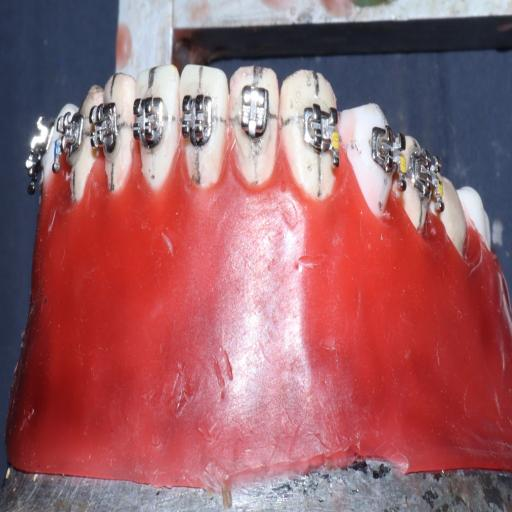correct_brace: (178, 86, 217, 152)
incorrect_brace: (227, 55, 283, 189), (297, 98, 345, 176), (236, 76, 273, 142)
